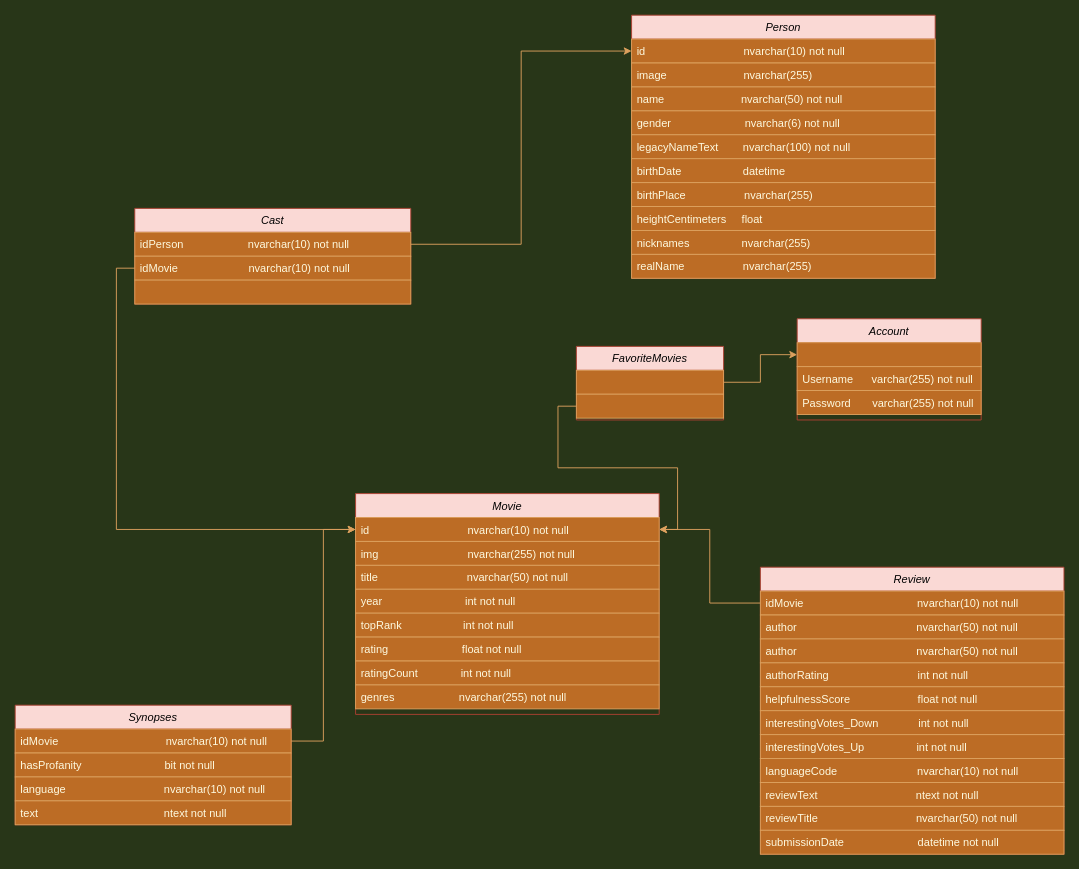
The diagram is 1079 pixels wide and 869 high, and some of its shapes have lost their labels. Here are the shapes that lost their labels. From the top down, the centre of each, then its label:
[272,291]: characters nvarchar(255) not null
[888,354]: id varchar(10) not null
[649,381]: idUser
[649,405]: idMovie
